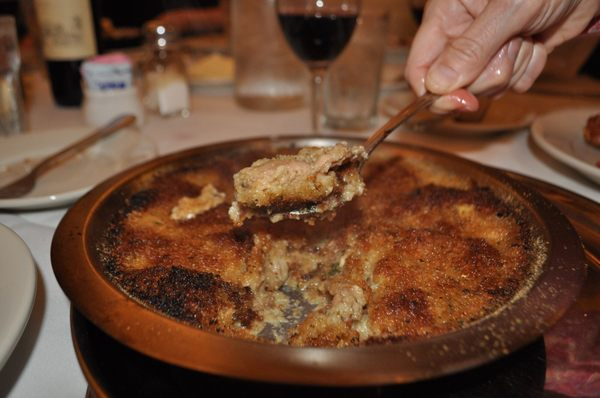sandwich: (0, 114, 137, 200)
soup: (229, 140, 369, 230)
